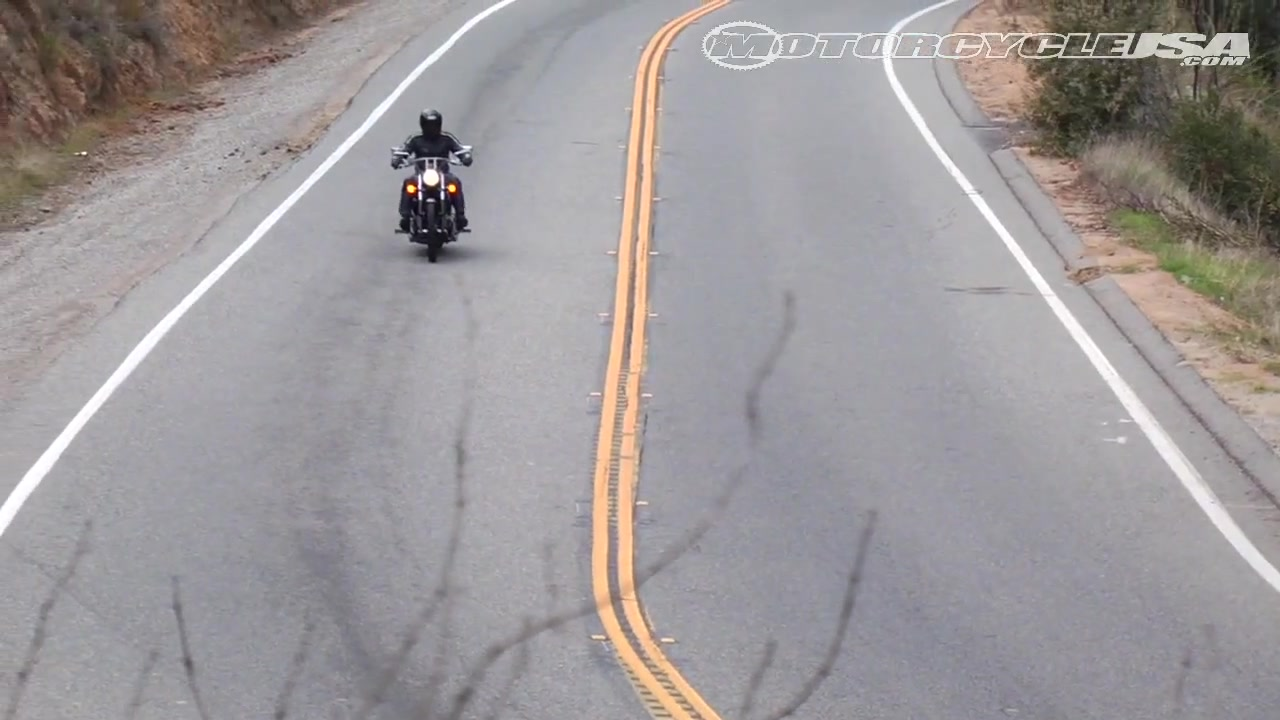motorbike: (390, 143, 478, 259)
